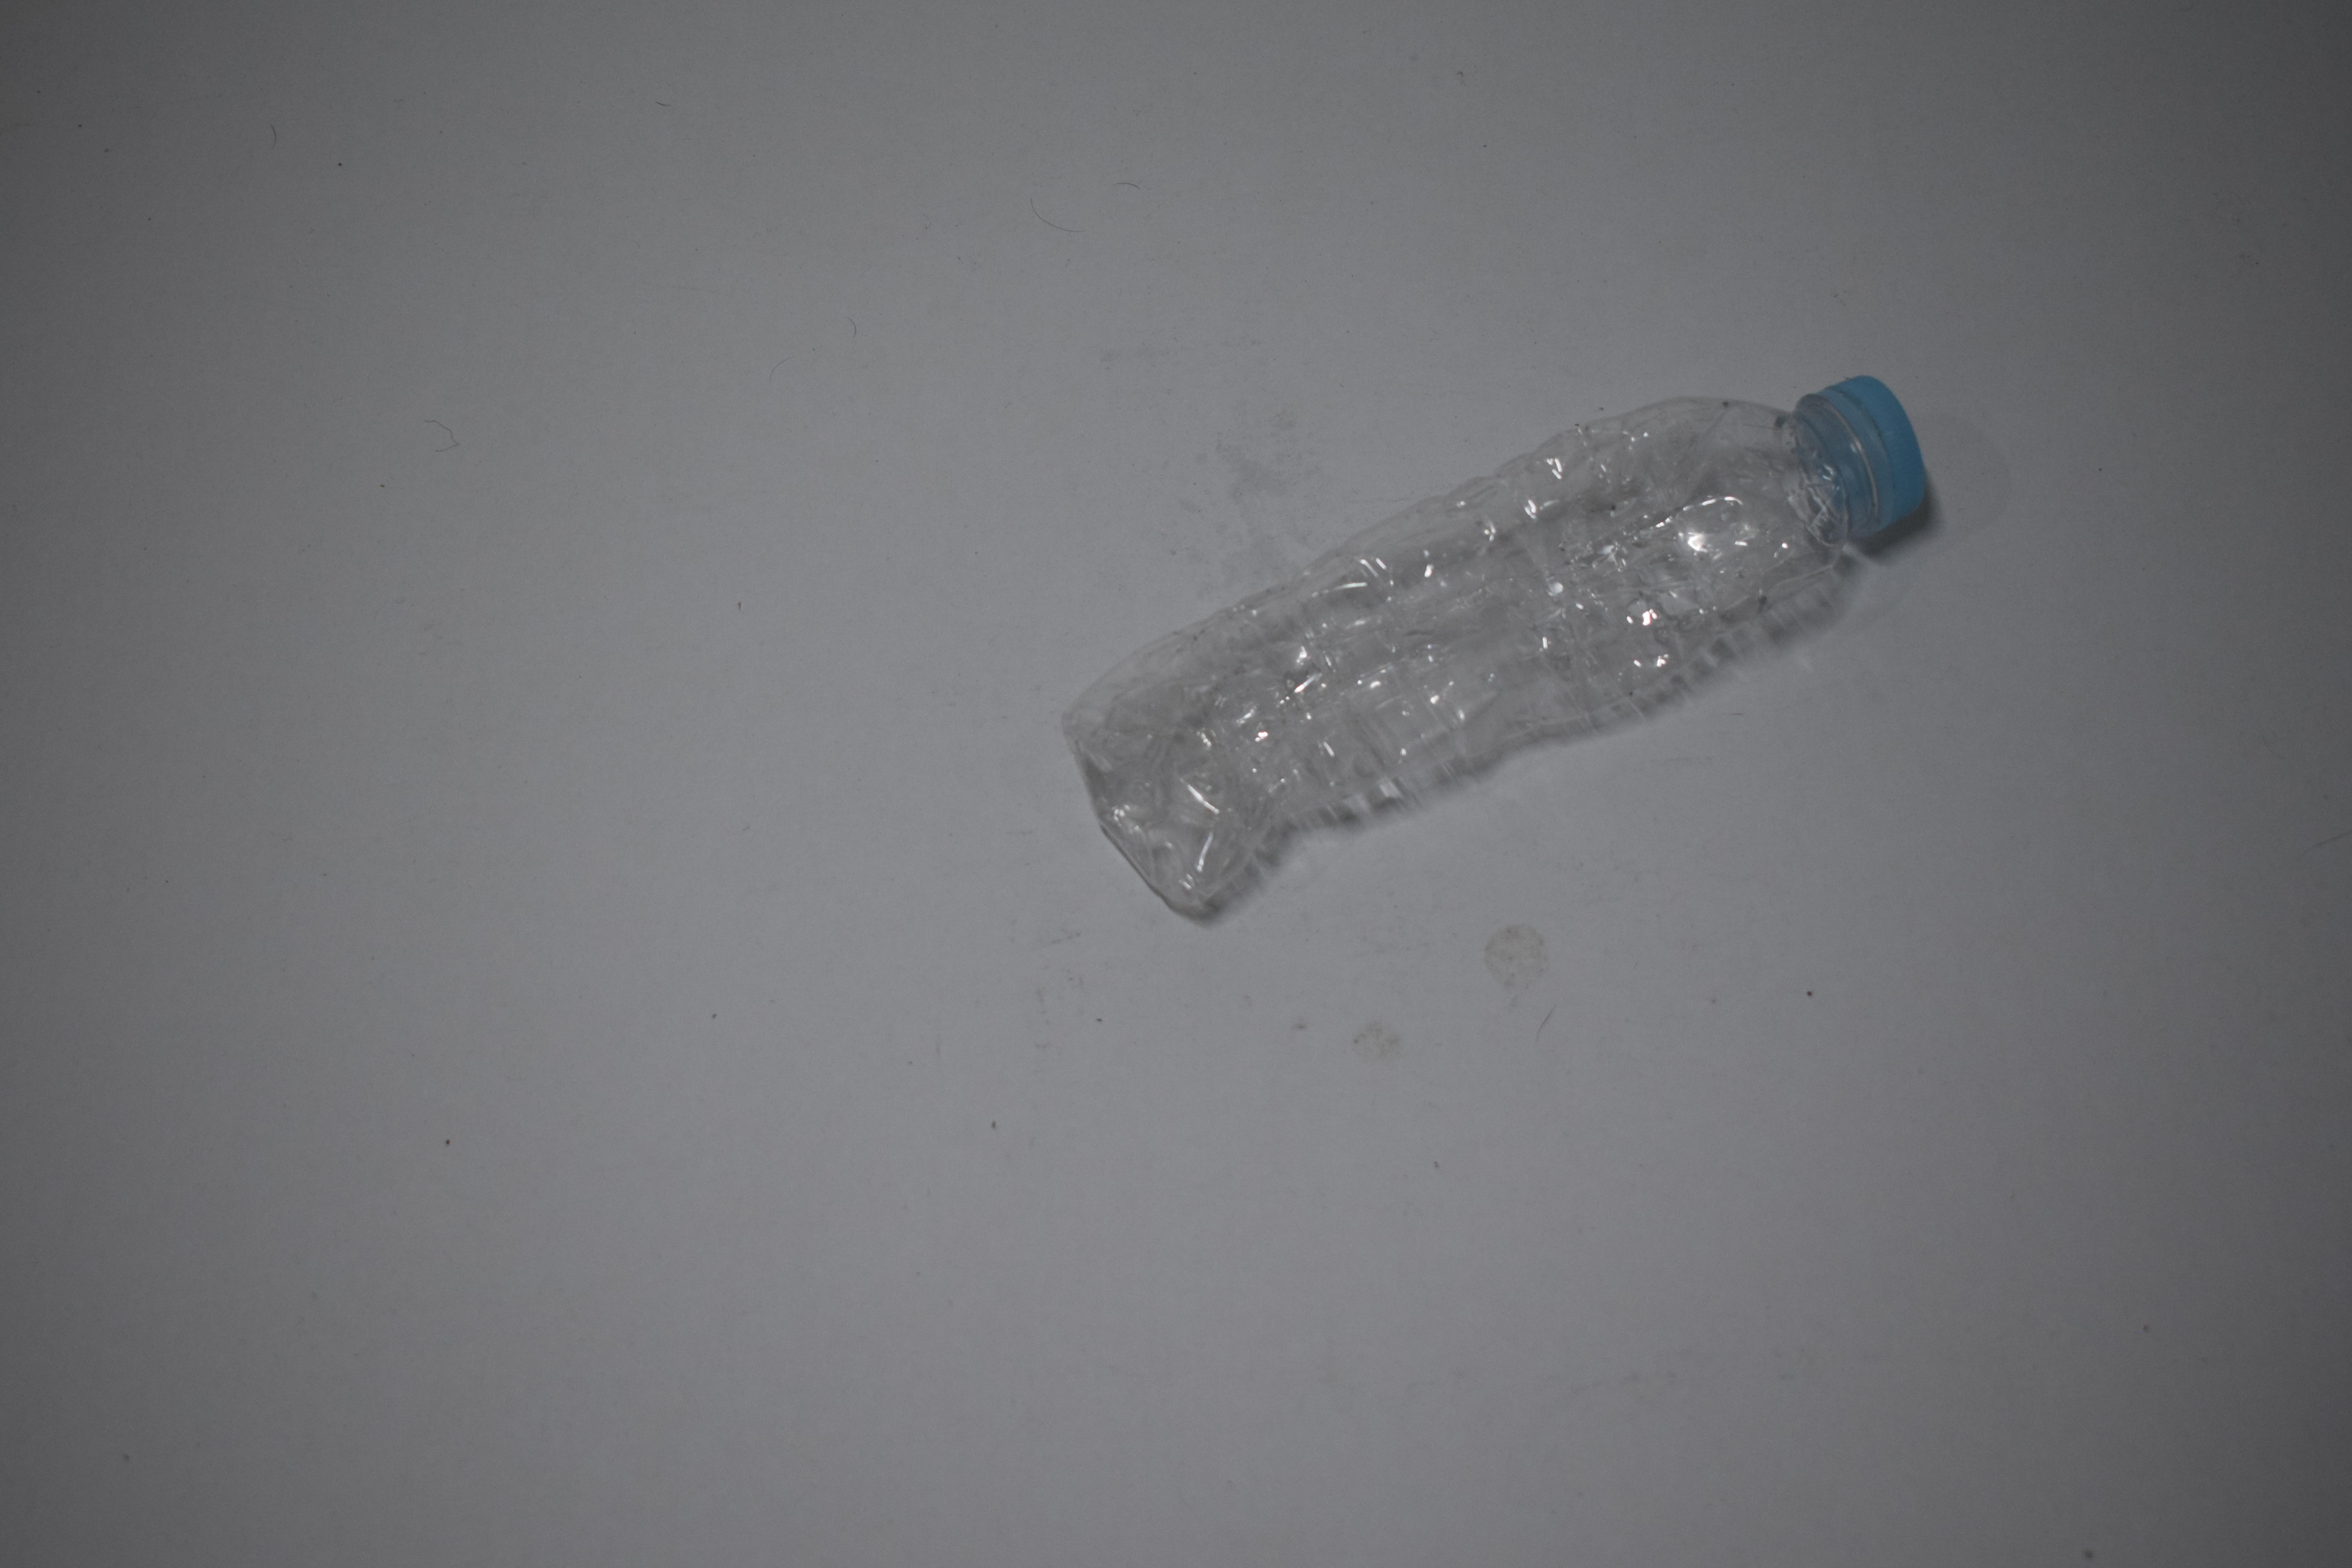bottle: (1039, 411, 1928, 882)
